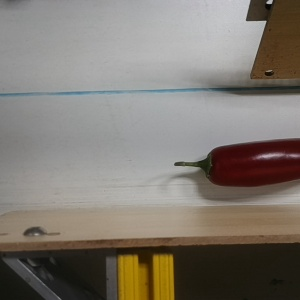Cut Point: (195, 145, 227, 186)
